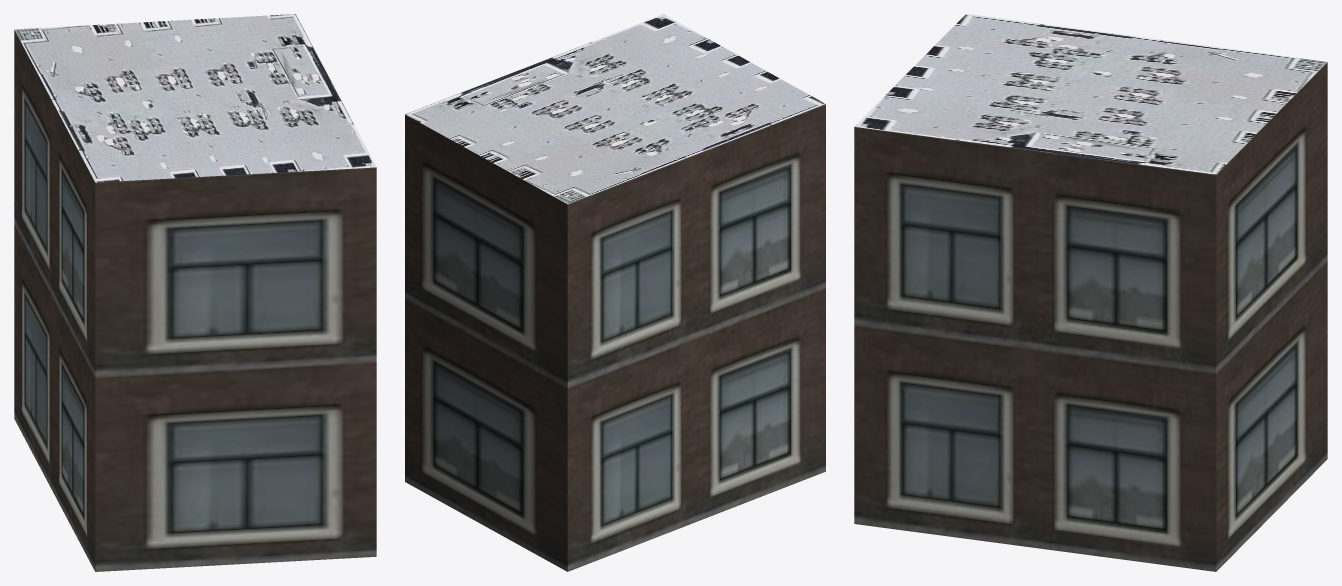
Rendered from ResTex__2608.fbx.
The picture shows the model from 3 angles, left to right: view 1: azimuth 30°, elevation 25°; view 2: azimuth 150°, elevation 25°; view 3: azimuth 270°, elevation 25°; orthographic projection. The views are drawn at different scales.
Visible parts, largest first — view 1: CityEngineMaterial_16_m, CityEngineMaterial_15_m; view 2: CityEngineMaterial_16_m, CityEngineMaterial_15_m; view 3: CityEngineMaterial_16_m, CityEngineMaterial_15_m.
Part boxes in pixels (bbox=[...]): CityEngineMaterial_16_m: bbox=[14, 30, 376, 571]; CityEngineMaterial_15_m: bbox=[14, 14, 376, 182]; CityEngineMaterial_16_m: bbox=[405, 104, 825, 571]; CityEngineMaterial_15_m: bbox=[405, 14, 825, 204]; CityEngineMaterial_16_m: bbox=[854, 62, 1327, 571]; CityEngineMaterial_15_m: bbox=[854, 14, 1327, 174].
Size of the model in its own units: 5.21 by 6 by 6.48.
Materials: 2 (2 with a texture image).
